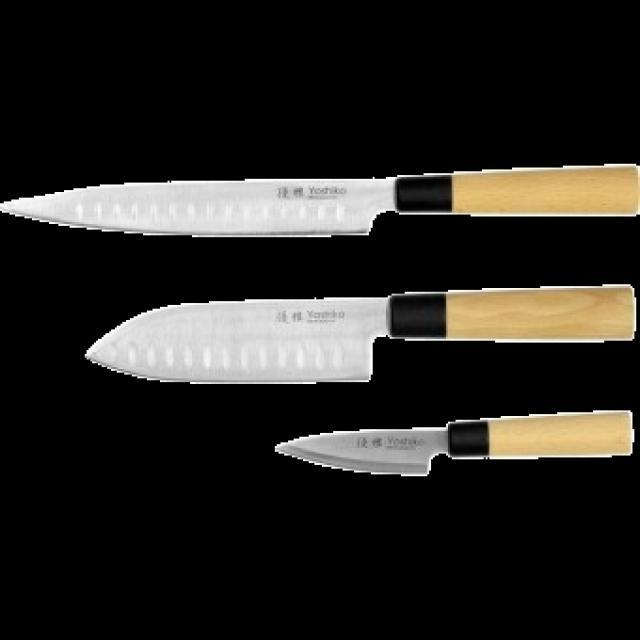knife: (89, 290, 637, 389), (3, 169, 638, 243), (287, 416, 638, 475)
